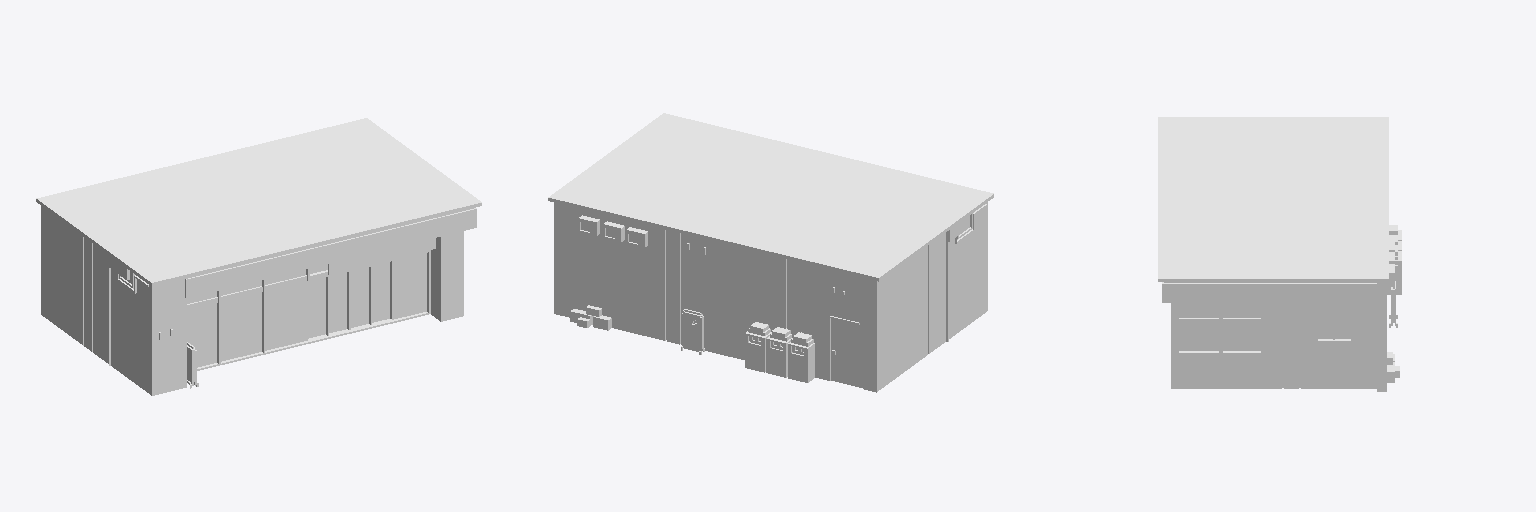
File: GDS2_Service.obj
3 views of the same model, side by side, from view 1: azimuth 30°, elevation 25°; view 2: azimuth 150°, elevation 25°; view 3: azimuth 270°, elevation 25° (orthographic).
Visible parts, largest first — view 1: GDS2_Service; view 2: GDS2_Service; view 3: GDS2_Service.
Boxes of the visible parts, <box> form: GDS2_Service: <box>36,118,481,395</box>; GDS2_Service: <box>548,113,993,392</box>; GDS2_Service: <box>1158,117,1401,391</box>.
Size of the model in its own units: 20 by 6.7 by 12.8.